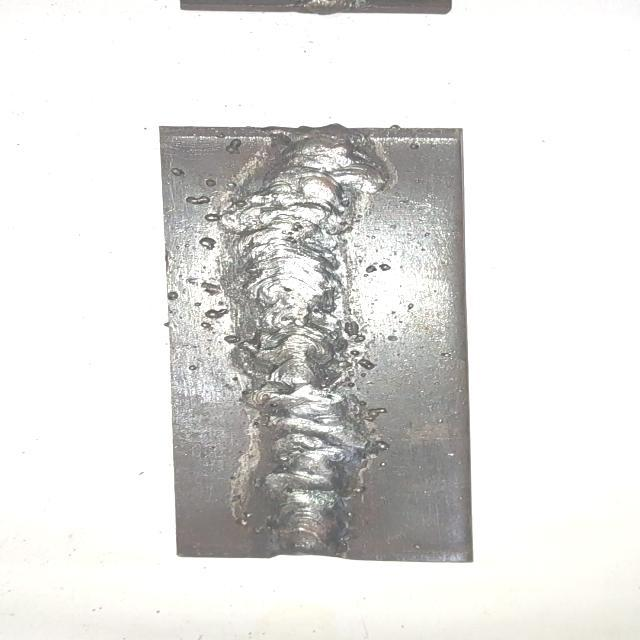Defect: (220, 130, 398, 464)
Welding Line: (230, 134, 389, 553)
Workpiece: (157, 123, 476, 564)
